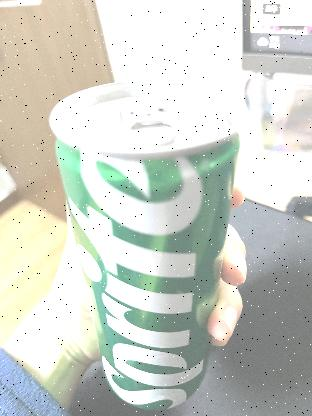Can: (50, 76, 246, 412)
